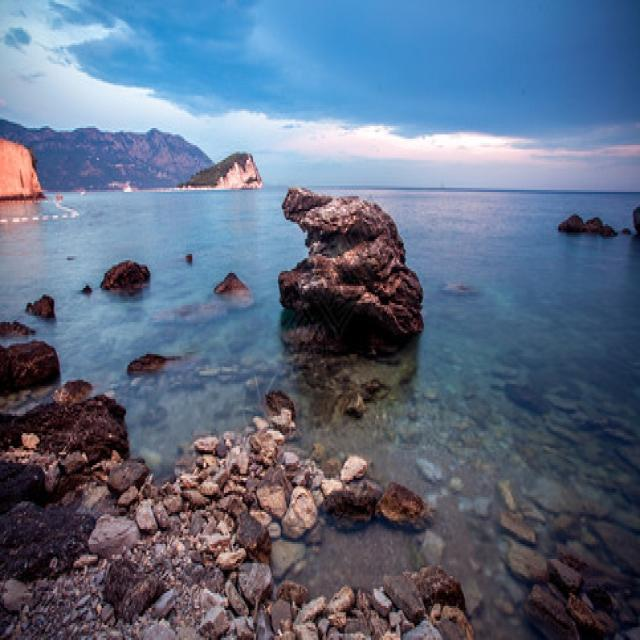island: (0, 91, 256, 208)
reef: (272, 168, 420, 350)
